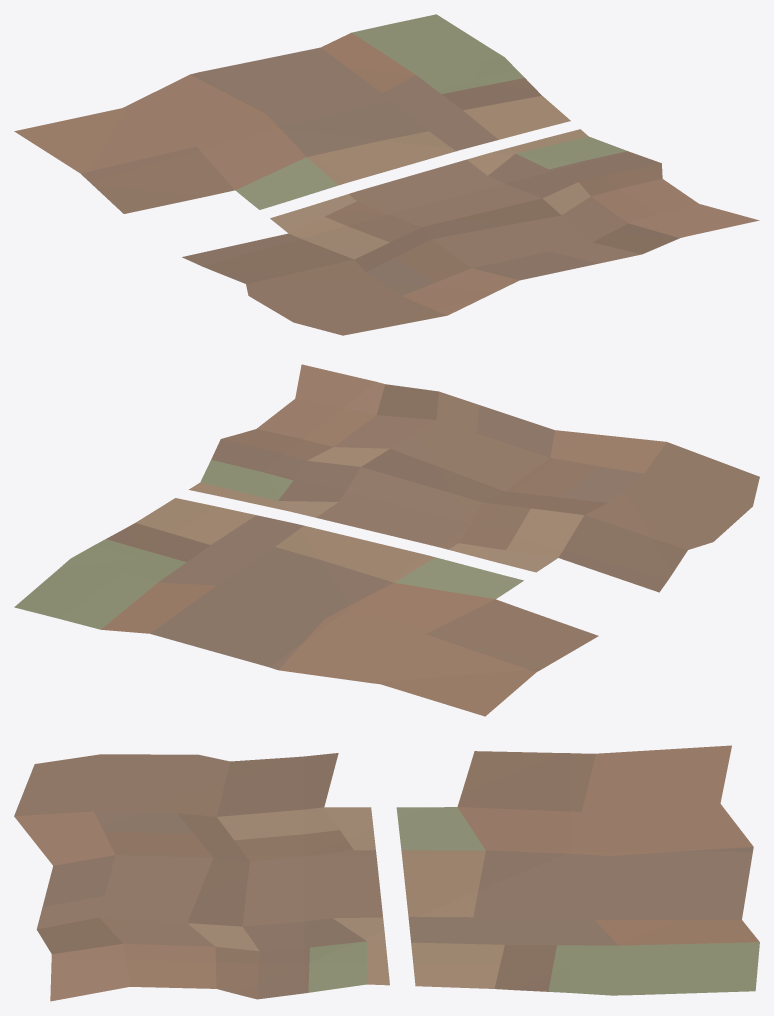
The model's file is farm_26_30_soil.glb.
3 renders of one model, top to bottom at view 1: azimuth 30°, elevation 25°; view 2: azimuth 150°, elevation 25°; view 3: azimuth 270°, elevation 25°, orthographic. The views are drawn at different scales.
Parts seen in each view (by area): view 1: geometry_0; view 2: geometry_0; view 3: geometry_0.
Part boxes in pixels (bbox=[...]): geometry_0: bbox=[14, 14, 759, 335]; geometry_0: bbox=[14, 364, 759, 716]; geometry_0: bbox=[14, 745, 759, 1001].
Bounding box in the file's own units: 189 × 6.03 × 224.
